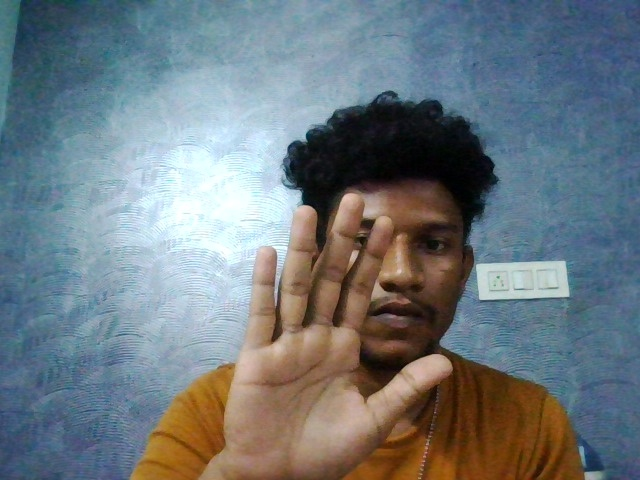hello: (220, 195, 452, 472)
